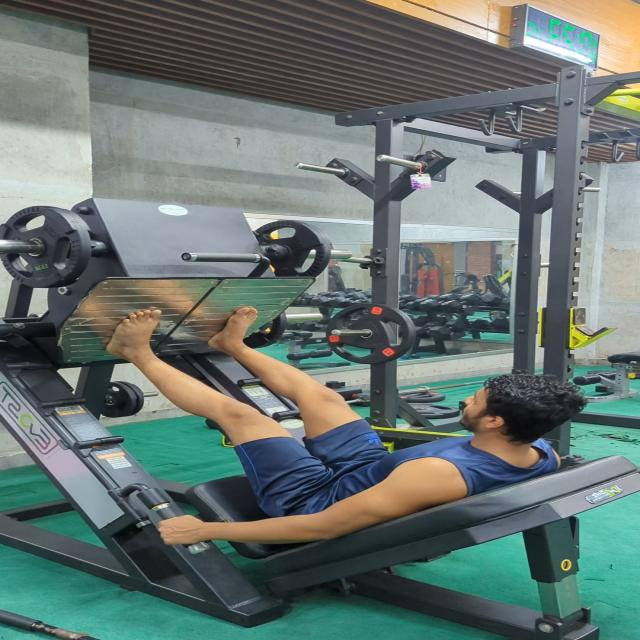Normal_LegPress: (98, 298, 590, 550)
